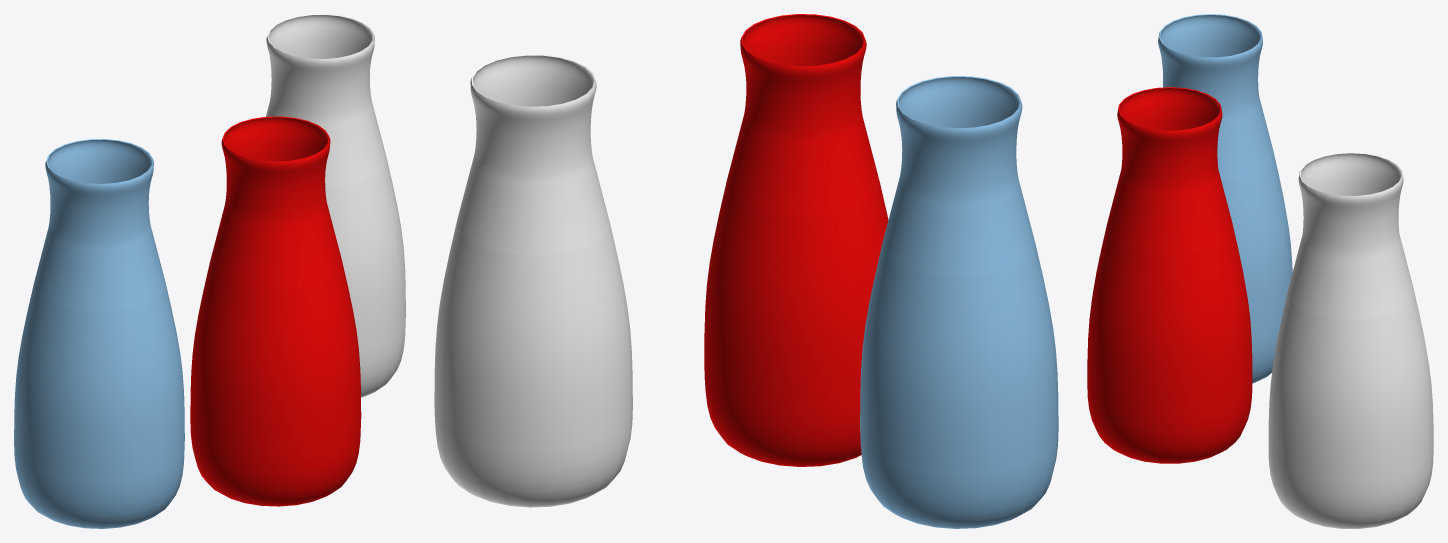
File: IKEA-Mylonit_Table_Lamp-3D.obj
3 views of the same model, side by side, from view 1: azimuth 30°, elevation 25°; view 2: azimuth 150°, elevation 25°; view 3: azimuth 270°, elevation 25° (orthographic). The views are drawn at different scales.
Visible parts, largest first — view 1: Rectangle02, Rectangle01, Rectangle03; view 2: Rectangle03, Rectangle01, Rectangle02; view 3: Rectangle02, Rectangle03, Rectangle01.
Boxes of the visible parts, x1,y1,x2,y2 form: Rectangle02: [190, 116, 361, 506]; Rectangle01: [14, 139, 184, 528]; Rectangle03: [266, 14, 405, 397]; Rectangle03: [434, 54, 632, 507]; Rectangle01: [860, 76, 1058, 528]; Rectangle02: [704, 14, 888, 466]; Rectangle02: [1087, 87, 1252, 463]; Rectangle03: [1268, 152, 1433, 528]; Rectangle01: [1158, 14, 1292, 383].
Bounding box in the file's own units: 417 × 310 × 293.
